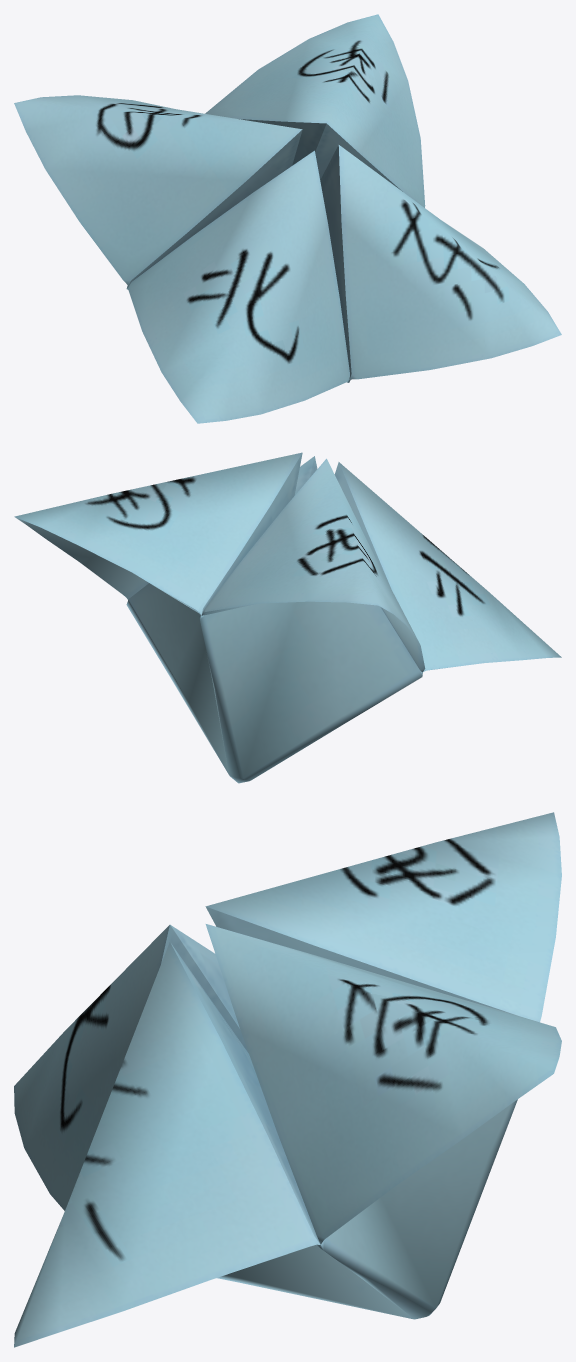
Rendered from ref_gtpaperfortune.fbx.
3 renders of one model, top to bottom at view 1: azimuth 30°, elevation 25°; view 2: azimuth 150°, elevation 25°; view 3: azimuth 270°, elevation 25°, orthographic. The views are drawn at different scales.
Parts seen in each view (by area): view 1: ref_gtpaperfortune; view 2: ref_gtpaperfortune; view 3: ref_gtpaperfortune.
Boxes of the visible parts, x1,y1,x2,y2 form: ref_gtpaperfortune: [14, 14, 561, 423]; ref_gtpaperfortune: [14, 452, 561, 783]; ref_gtpaperfortune: [14, 812, 561, 1347].
Bounding box in the file's own units: 100 × 71.07 × 87.75.
Materials: 1 (1 with a texture image).
